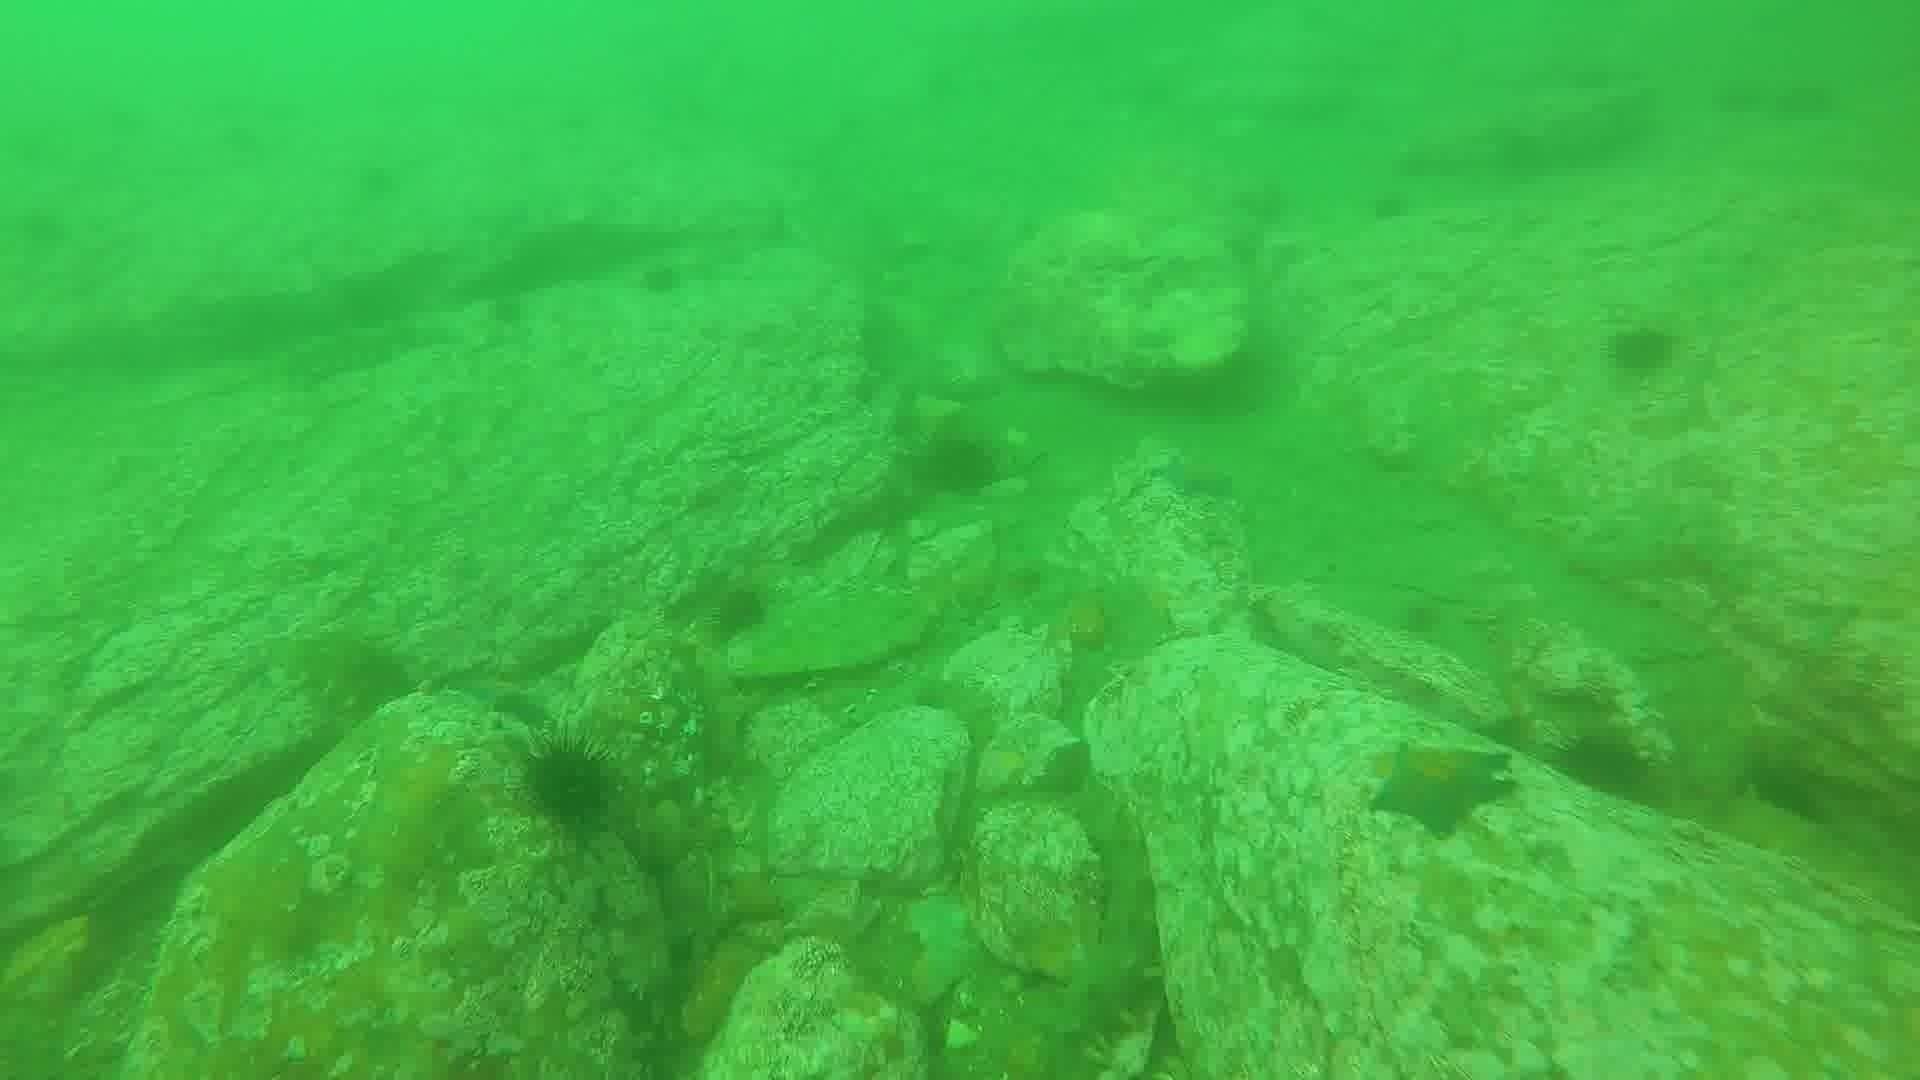echinus: (290, 634, 419, 729), (516, 732, 621, 836), (1549, 725, 1656, 807), (916, 429, 1004, 502), (1604, 318, 1681, 382), (704, 579, 775, 645), (1772, 73, 1842, 127), (634, 255, 690, 302), (1366, 185, 1416, 227)
holothurian: (1036, 891, 1166, 1077)
starfish: (1364, 736, 1516, 840), (443, 663, 553, 729), (1150, 448, 1240, 505)
